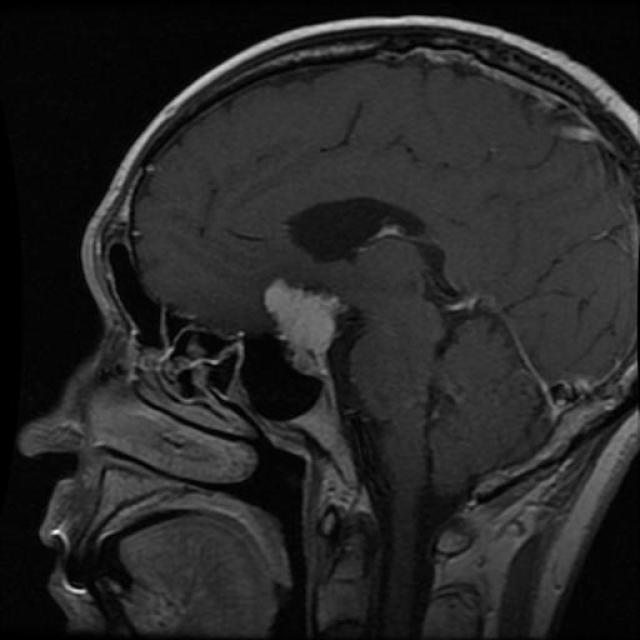meningioma: (264, 281, 336, 376)
